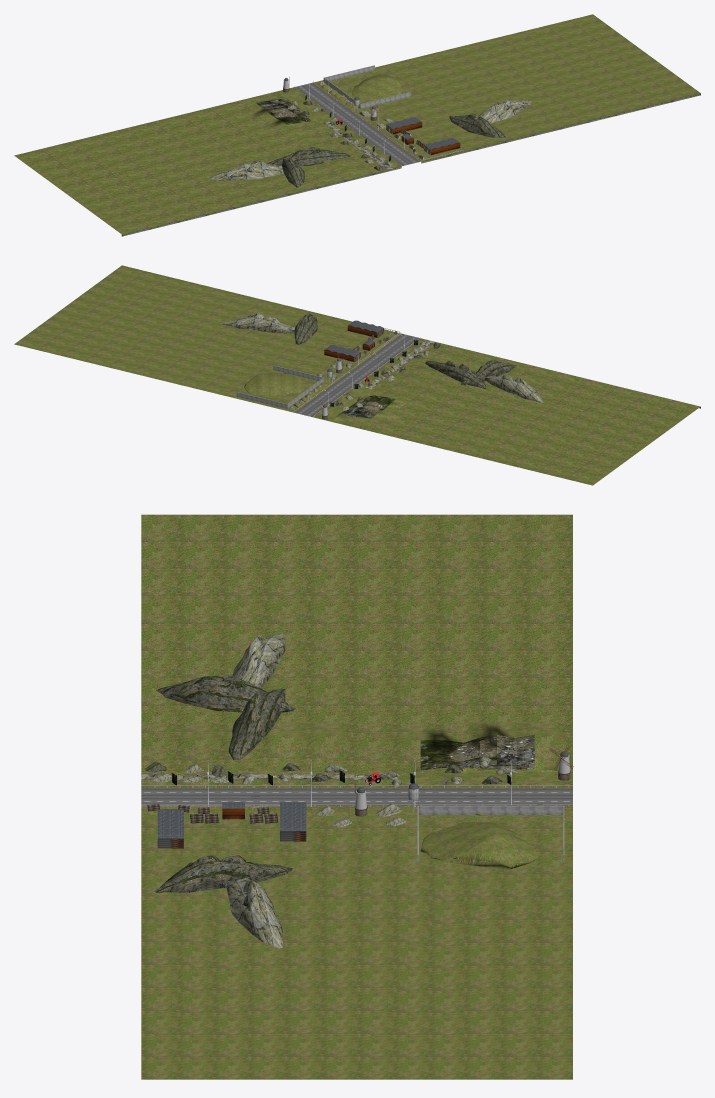
Rendered from green _ p_03.FBX.
The picture shows the model from 3 angles, top to bottom: view 1: azimuth 30°, elevation 25°; view 2: azimuth 150°, elevation 25°; view 3: azimuth 270°, elevation 25°; orthographic projection. The views are drawn at different scales.
Visible parts, largest first — view 1: Object479, Object631, Object629, Object402, Object406, Object304, Object306, Object528, Object405, Box007, Object649; view 2: Object479, Object631, Object629, Object306, Object402, Object406, Object528, Object405, Object304, Box007, Object649; view 3: Object479, Object631, Object629, Object304, Object405, Object306, Object406, Object402, Object528, Box007, Object649.
Part boxes in pixels (x1,y1,x2,y2): Object479: (14,87,401,236); Object631: (313,14,700,163); Object629: (294,83,420,166); Object402: (209,160,283,180); Object406: (267,147,350,166); Object304: (449,114,505,137); Object306: (479,99,531,123); Object528: (323,65,411,108); Object405: (281,156,304,187); Box007: (424,138,460,155); Object649: (386,117,422,134); Object479: (313,338,700,485); Object631: (14,265,401,412); Object629: (294,333,420,417); Object306: (221,313,295,333); Object402: (486,374,543,402); Object406: (425,361,487,389); Object528: (236,365,324,408); Object405: (461,359,516,385); Object304: (294,314,317,344); Box007: (347,320,383,337); Object649: (324,345,360,361); Object479: (141,514,572,787); Object631: (141,804,572,1079); Object629: (141,787,572,806); Object304: (153,855,293,892); Object405: (156,676,295,712); Object306: (226,878,282,948); Object406: (228,688,285,760); Object402: (232,633,285,688); Object528: (417,805,564,863); Box007: (157,809,183,848); Object649: (280,802,306,841).
Bounding box in the file's own units: 11624 × 376 × 3761.
